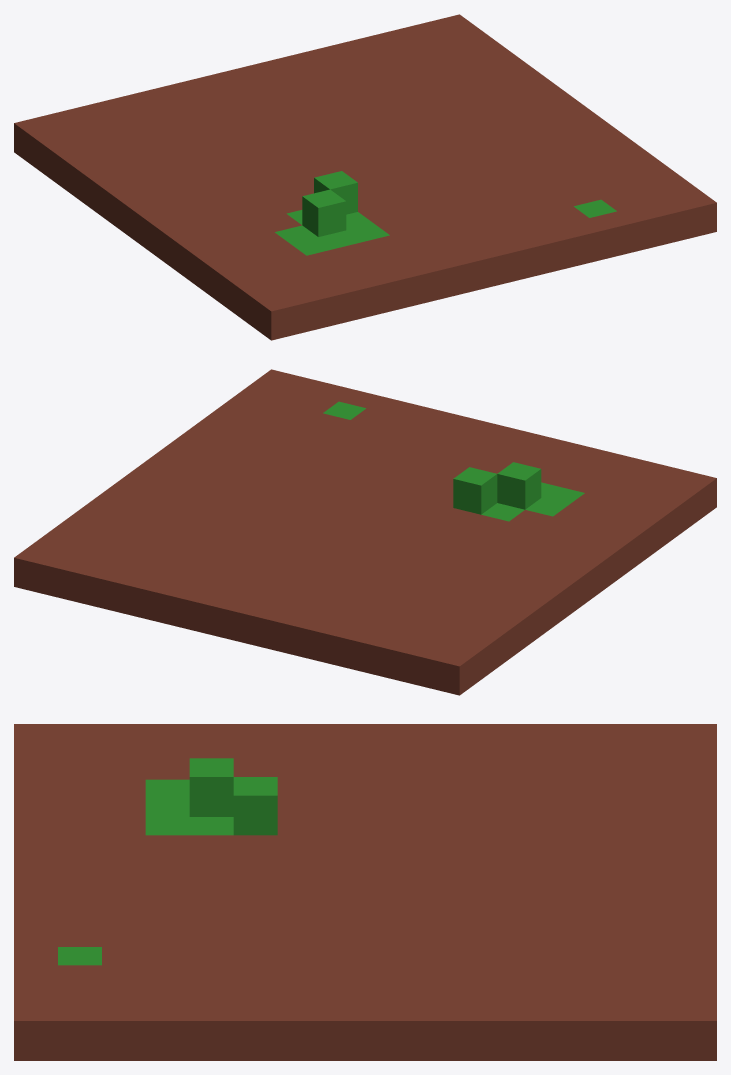
Rendered from floor3.obj.
The picture shows the model from 3 angles, top to bottom: view 1: azimuth 30°, elevation 25°; view 2: azimuth 150°, elevation 25°; view 3: azimuth 270°, elevation 25°; orthographic projection. The views are drawn at different scales.
Size of the model in its own units: 16 by 2 by 16.
Materials: 1 (1 with a texture image).
